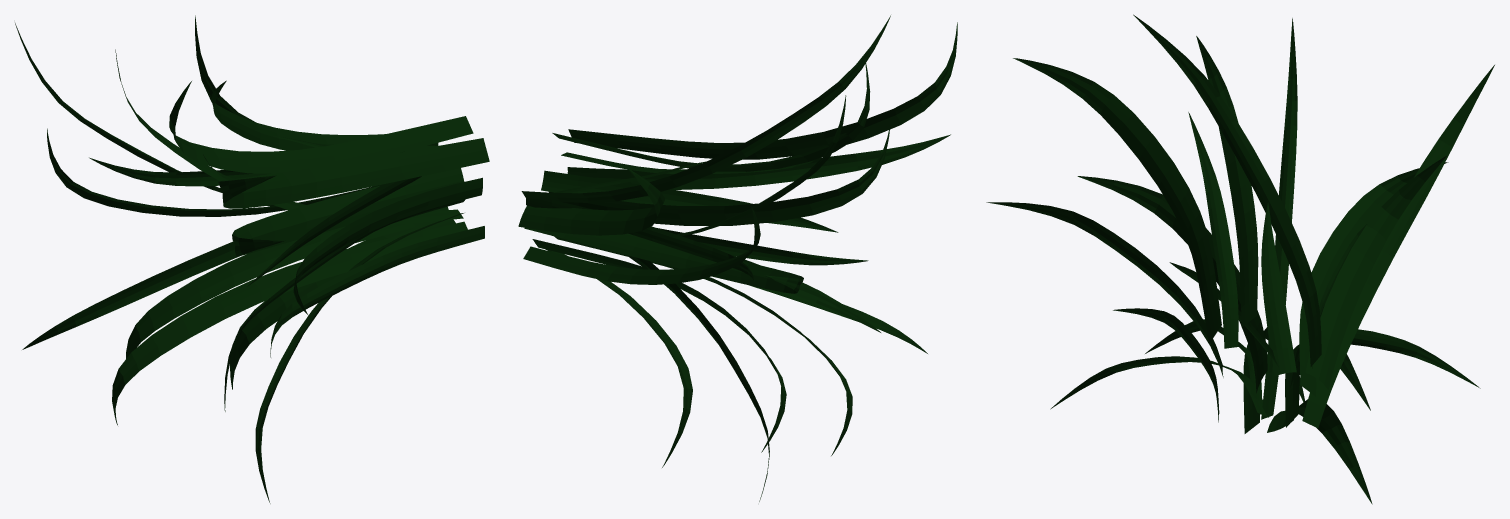
File: grass.obj
The picture shows the model from 3 angles, left to right: view 1: azimuth 30°, elevation 25°; view 2: azimuth 150°, elevation 25°; view 3: azimuth 270°, elevation 25°; orthographic projection. The views are drawn at different scales.
Visible parts, largest first — view 1: High_Grass; view 2: High_Grass; view 3: High_Grass.
Boxes of the visible parts, x1,y1,x2,y2 form: High_Grass: (15, 15, 489, 503); High_Grass: (518, 15, 957, 501); High_Grass: (986, 14, 1494, 504).
Bounding box in the file's own units: 0.7968 × 0.9762 × 1.05.
